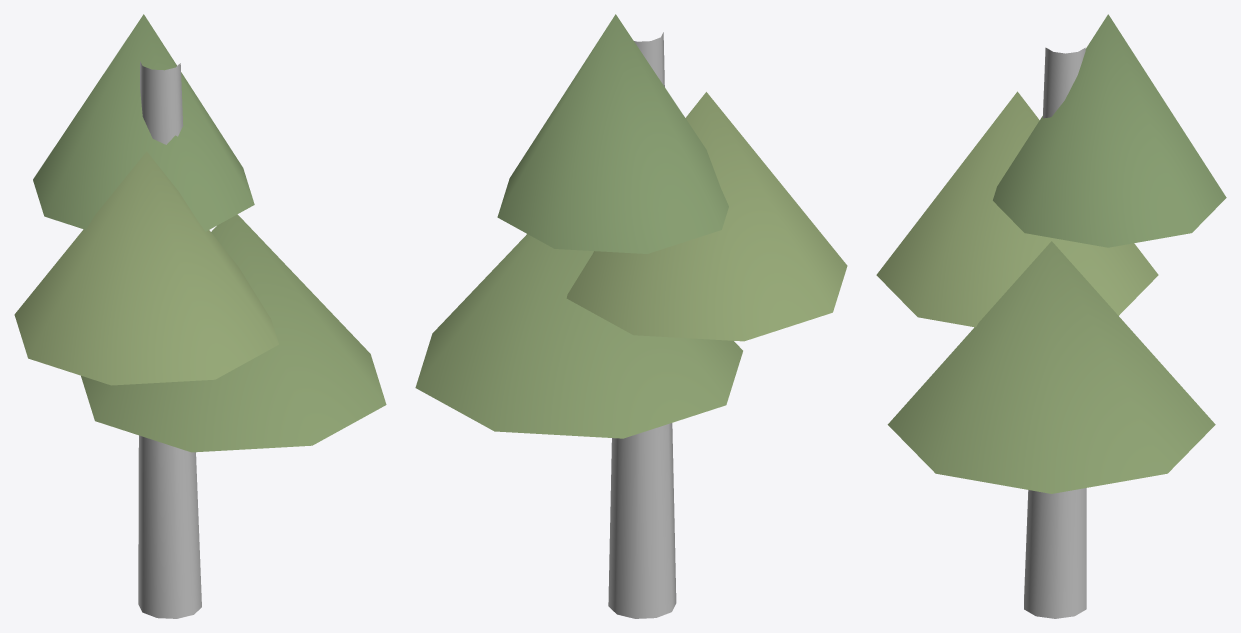
File: pine_v3_far.gltf
3 views of the same model, side by side, from view 1: azimuth 30°, elevation 25°; view 2: azimuth 150°, elevation 25°; view 3: azimuth 270°, elevation 25° (orthographic). The views are drawn at different scales.
Parts seen in each view (by area): view 1: foliage, bark; view 2: foliage, bark; view 3: foliage, bark.
Boxes of the visible parts, bbox=[...] form: foliage: bbox=[14, 14, 386, 452]; bark: bbox=[138, 61, 201, 618]; foliage: bbox=[415, 14, 847, 438]; bark: bbox=[608, 32, 676, 618]; foliage: bbox=[876, 14, 1226, 493]; bark: bbox=[1024, 47, 1086, 618].
Size of the model in its own units: 2.85 by 4.34 by 2.33.
